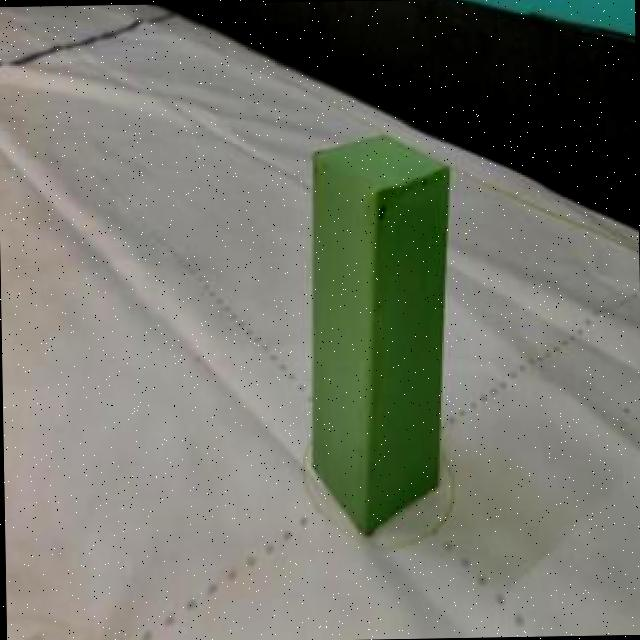greenbox: (307, 134, 453, 540)
